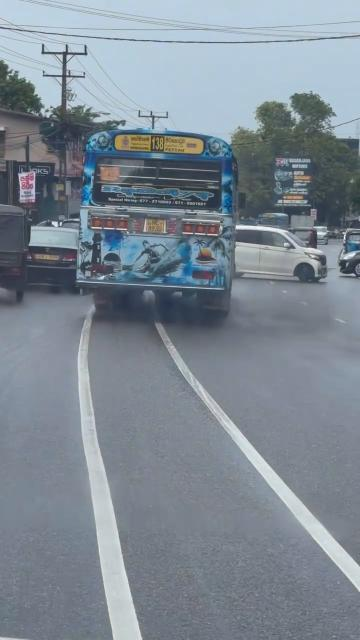illegal overtaking: (89, 111, 254, 326)
